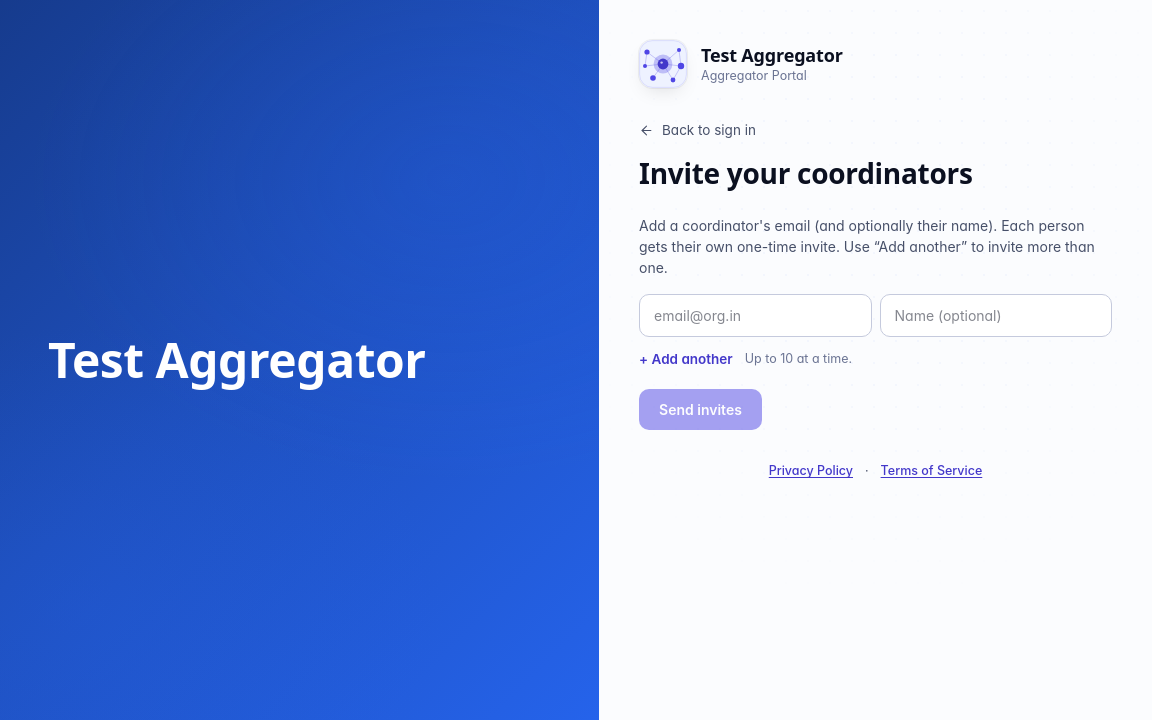
Test: <OwnerInviteView /> › mints invites from Name+Email rows and renders the summary
Type "a@x.org" into the field with placeholder "email@org.in".
click(755, 316); type("a@x.org")  # box [639,294,872,337]
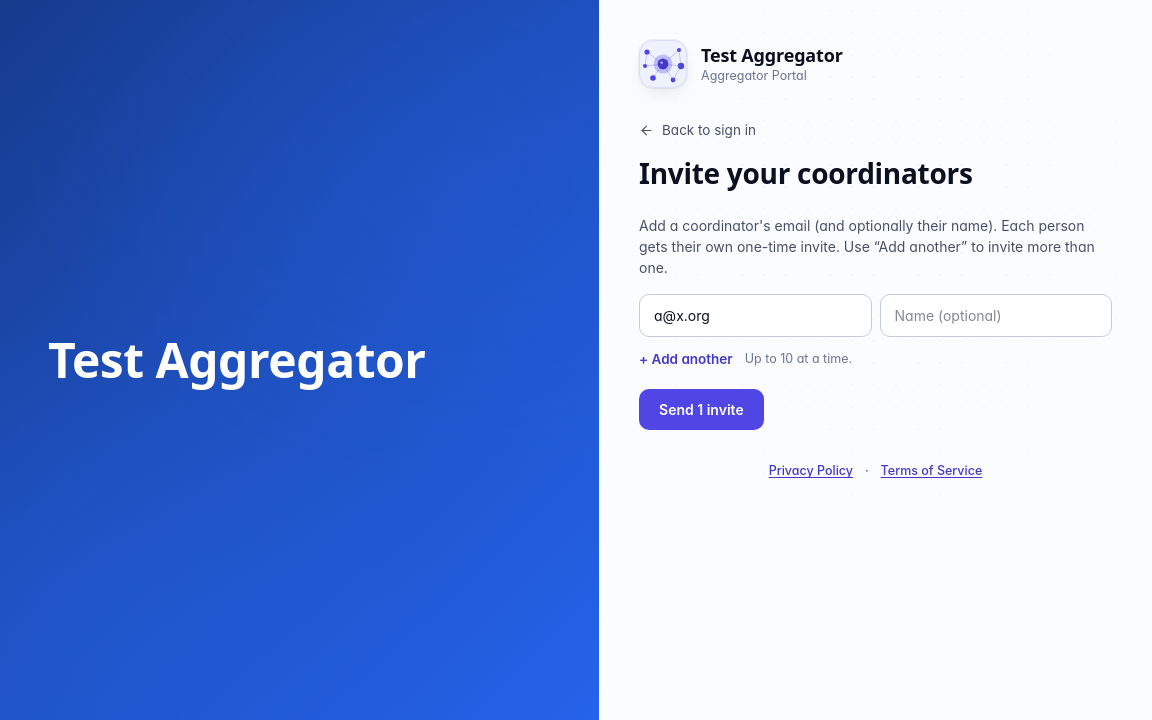
Click the button "+ Add another".
click(686, 359)  # box [639,349,733,369]
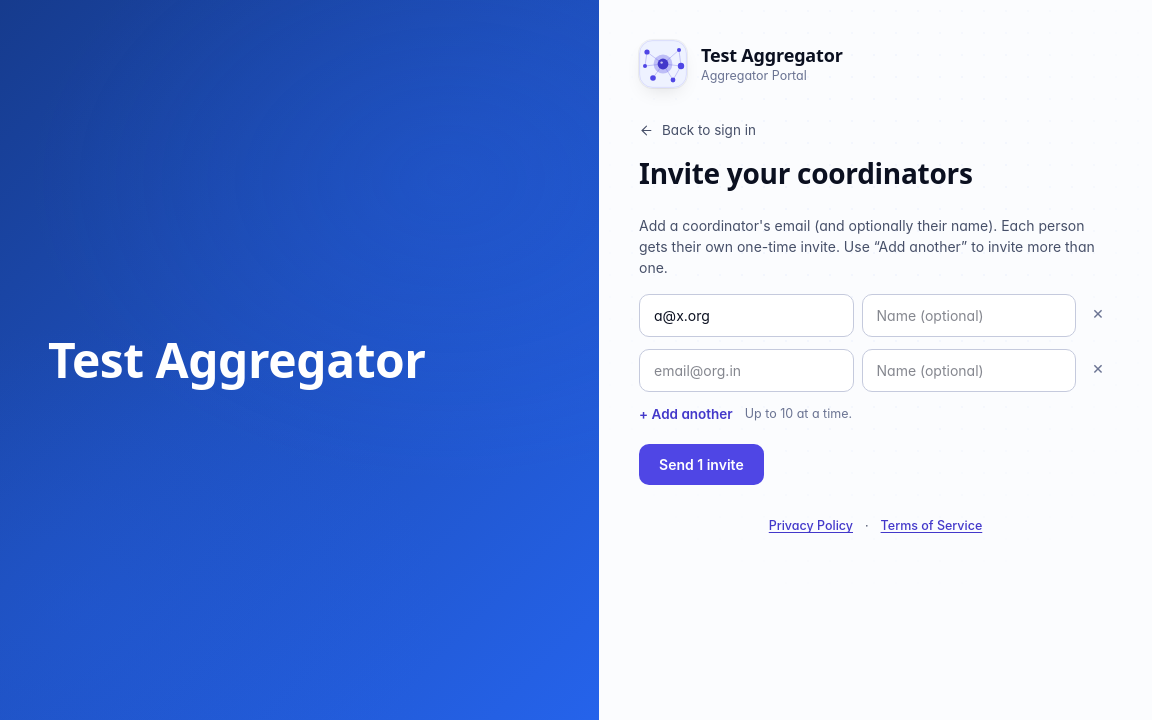
Type "b@x.org" into the field with placeholder "email@org.in".
click(746, 370); type("b@x.org")  # box [639,349,854,392]
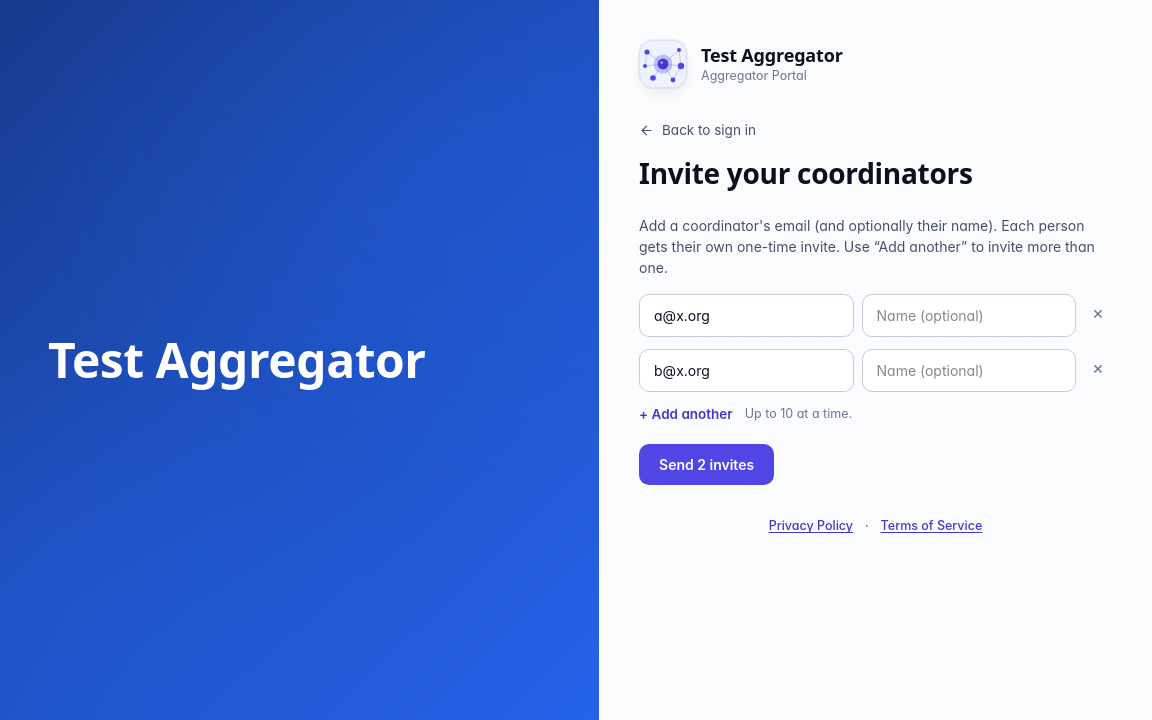
Type "Bee" into the 2nd field with placeholder "Name (optional)".
click(969, 370); type("Bee")  # box [862,349,1076,392]
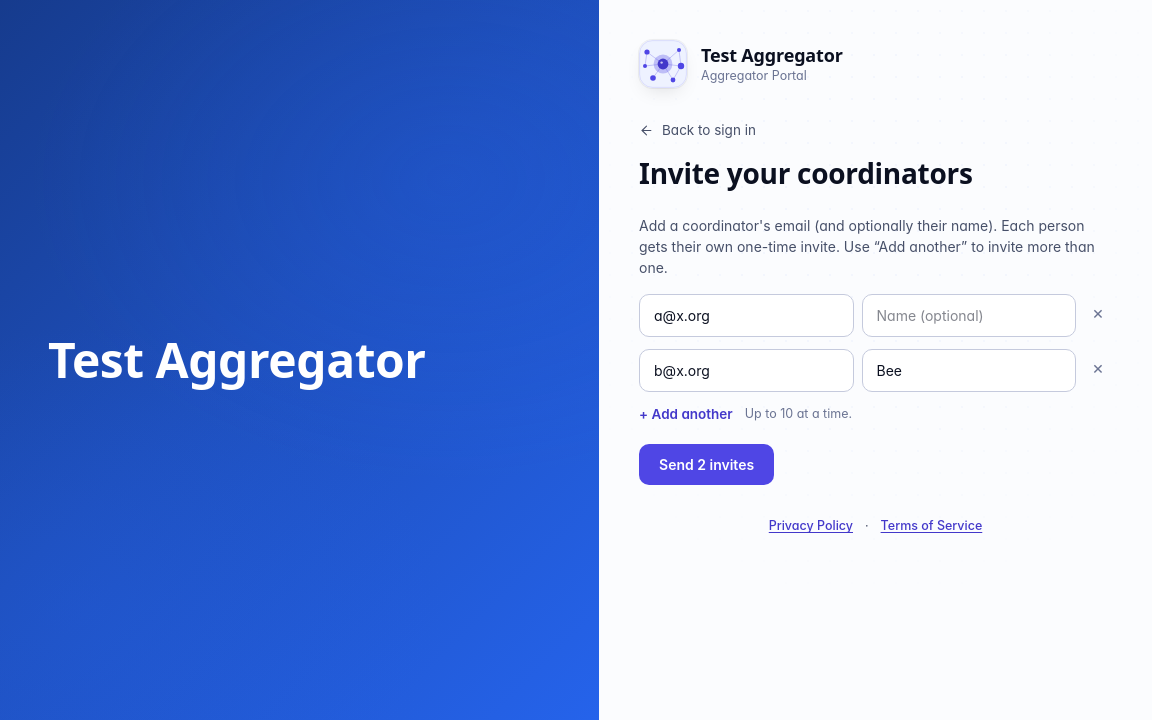
Click the button "Send 2 invites".
click(707, 465)  # box [639,444,774,485]
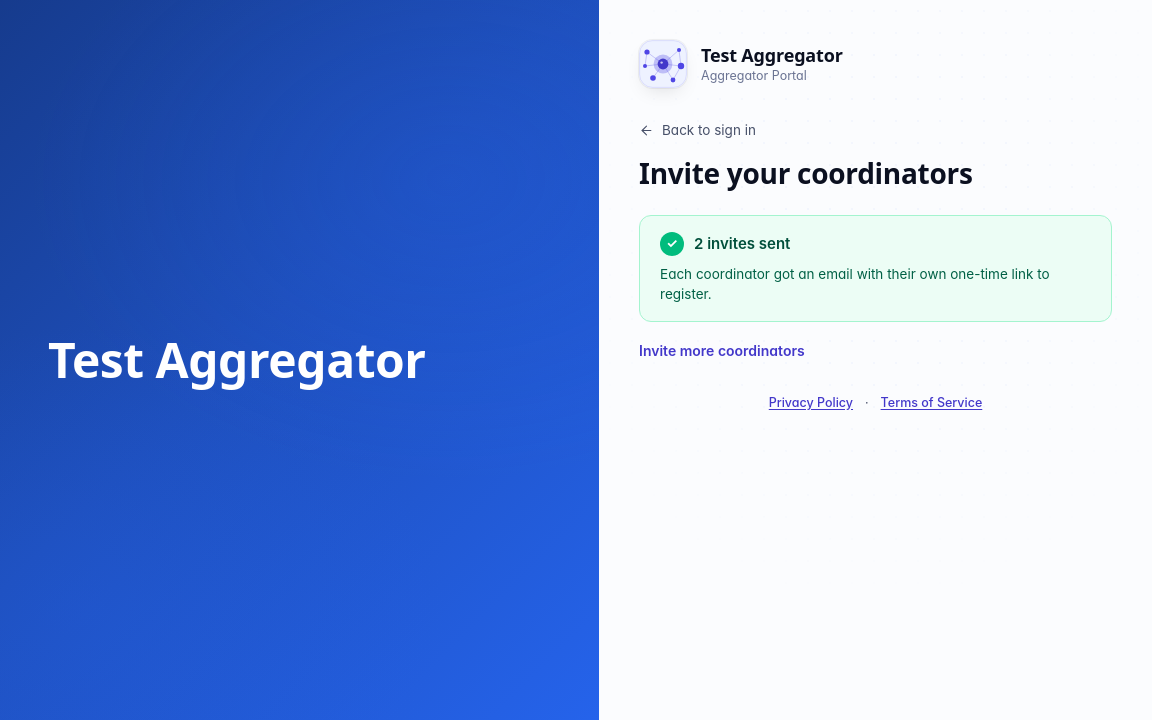
Check: the text "2 invites sent" is shown, box [694,233,790,255]
